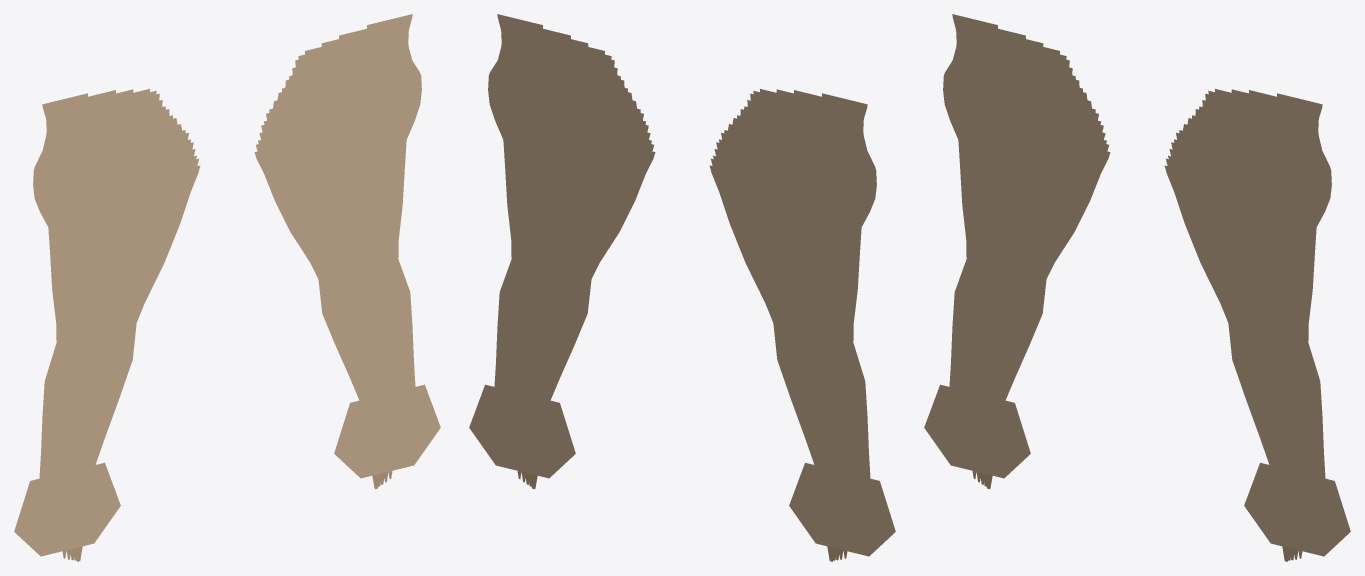
File: dermatomes_flat.obj
3 renders of one model, left to right at view 1: azimuth 30°, elevation 25°; view 2: azimuth 150°, elevation 25°; view 3: azimuth 330°, elevation 25°, orthographic.
Parts seen in each view (by area): view 1: L_Leg, R_Leg, R_Ft, L_Ft; view 2: L_Leg, R_Leg, R_Ft, L_Ft; view 3: R_Leg, L_Leg, L_Ft, R_Ft.
Part boxes in pixels (x1=…): L_Leg: x1=33, y1=89, x2=200, y2=478; R_Leg: x1=254, y1=14, x2=421, y2=400; R_Ft: x1=334, y1=384, x2=440, y2=478; L_Ft: x1=14, y1=462, x2=120, y2=556; L_Leg: x1=709, y1=89, x2=876, y2=478; R_Leg: x1=488, y1=14, x2=655, y2=400; R_Ft: x1=469, y1=384, x2=575, y2=478; L_Ft: x1=789, y1=462, x2=895, y2=556; R_Leg: x1=1164, y1=89, x2=1331, y2=478; L_Leg: x1=943, y1=14, x2=1110, y2=400; L_Ft: x1=924, y1=384, x2=1030, y2=478; R_Ft: x1=1244, y1=462, x2=1350, y2=556.
Size of what is drawn, in the model's own units: 1.26 by 1.31 by 0.
